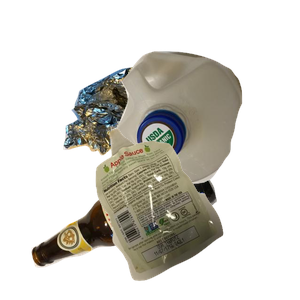glass: (29, 150, 238, 300)
metal: (61, 54, 225, 202)
plastic: (108, 49, 300, 226)
trash: (93, 126, 300, 300)
